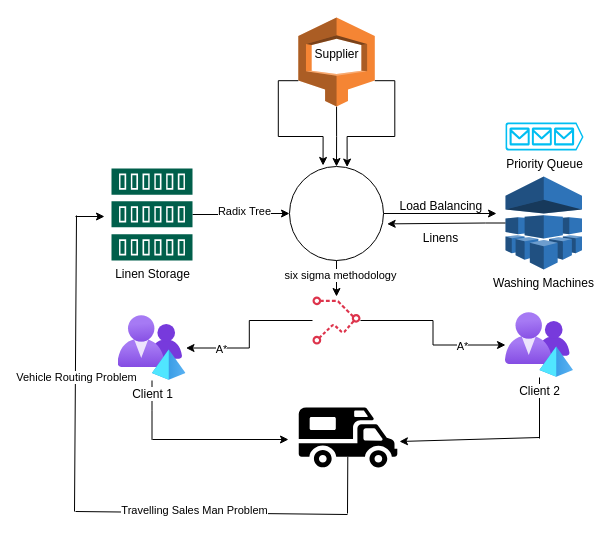
This 612x534 diagram has some shape labels left out. The shapes that lost their labels are listed below. From the top down, each one's box as (x1, y1, x2, y2) in pixels, then its label:
(288, 166, 384, 260): Laundry Facility
(312, 296, 360, 344): Route Optimization
(298, 407, 397, 467): Linen Picker
